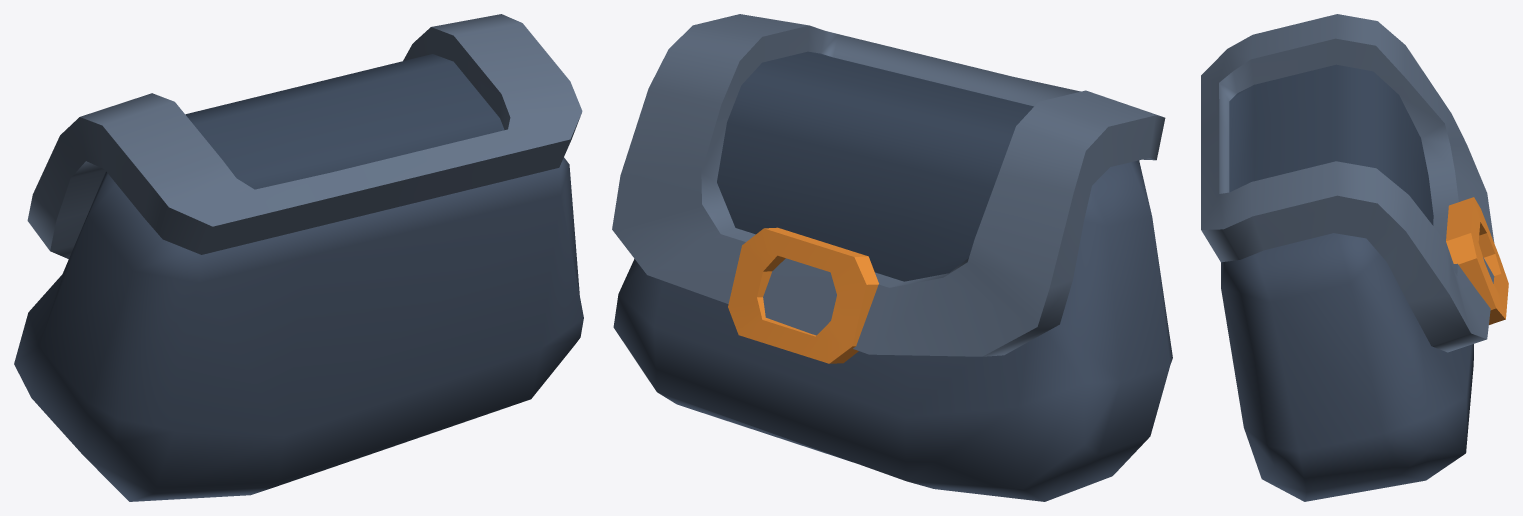
The model's file is Bag_2.fbx.
3 renders of one model, left to right at view 1: azimuth 30°, elevation 25°; view 2: azimuth 150°, elevation 25°; view 3: azimuth 270°, elevation 25°, orthographic. The views are drawn at different scales.
Parts seen in each view (by area): view 1: Bag_2; view 2: Bag_2; view 3: Bag_2.
Boxes of the visible parts, x1,y1,x2,y2 form: Bag_2: (14,14,583,501); Bag_2: (612,14,1172,501); Bag_2: (1201,14,1508,501).
Size of the model in its own units: 30.95 by 23.52 by 18.83.
